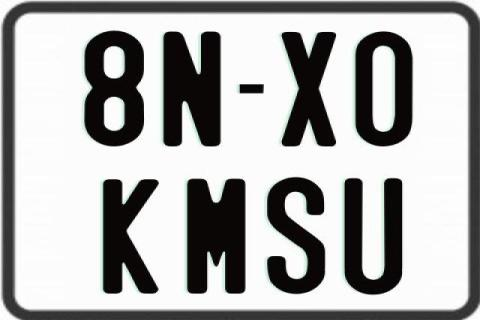0: (84, 28, 148, 145), (355, 30, 417, 150)
K: (103, 179, 165, 296)
M: (186, 178, 245, 298)
N: (163, 31, 222, 150)
S: (266, 177, 330, 295)
U: (343, 178, 404, 298)
X: (278, 31, 333, 149)
